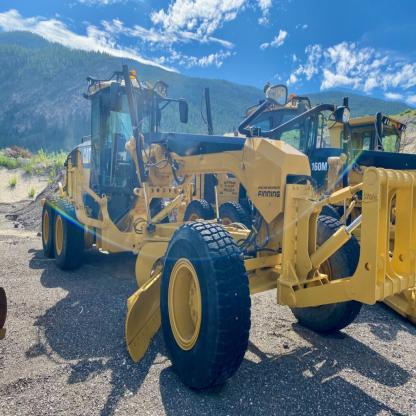bull_dozer/loader/grader: (28, 60, 416, 392)
